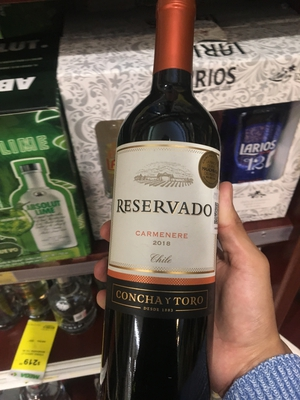reservado carmenere: (101, 10, 223, 400)
